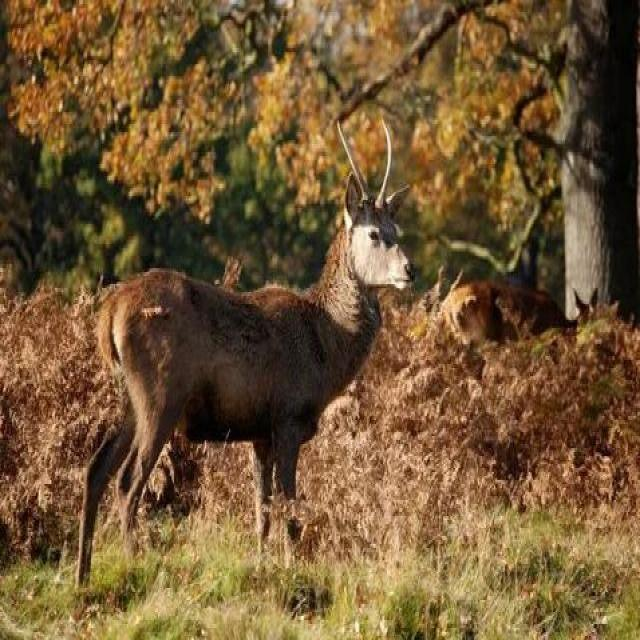deer: (87, 92, 444, 640), (430, 191, 620, 452)
